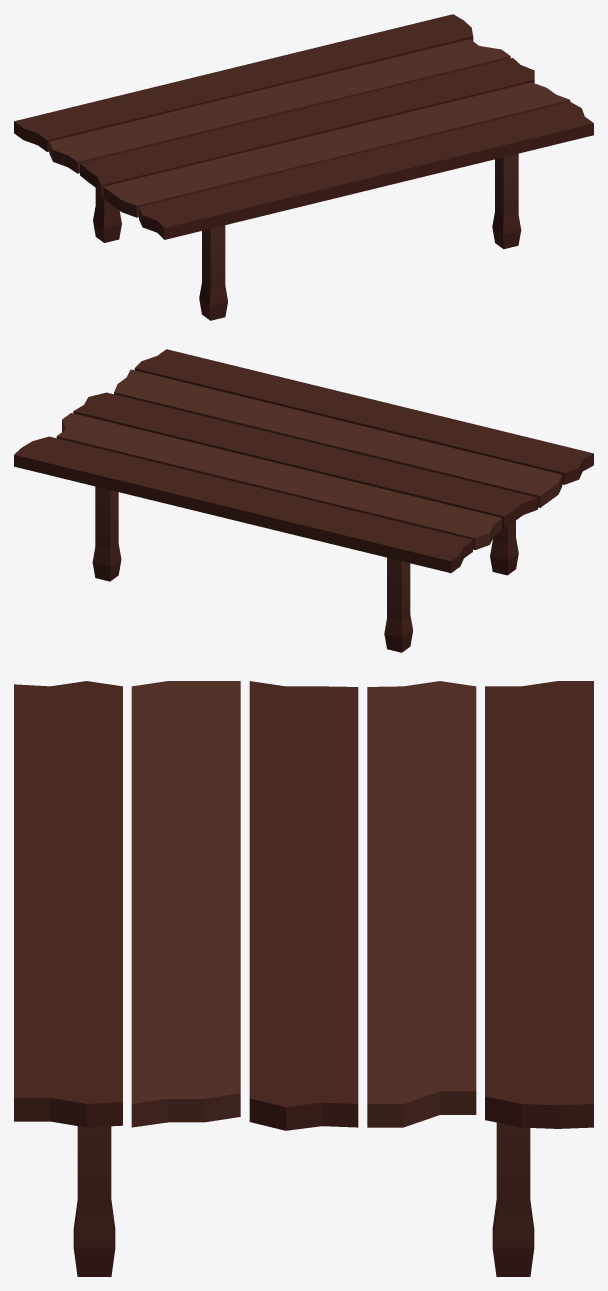
File: farmpack2023table.fbx
The picture shows the model from 3 angles, top to bottom: view 1: azimuth 30°, elevation 25°; view 2: azimuth 150°, elevation 25°; view 3: azimuth 270°, elevation 25°; orthographic projection. The views are drawn at different scales.
Visible parts, largest first — view 1: Plane.018; view 2: Plane.018; view 3: Plane.018.
Boxes of the visible parts, <box> form: Plane.018: <box>14,14,593,320</box>; Plane.018: <box>14,349,593,652</box>; Plane.018: <box>14,681,593,1276</box>.
Size of the model in its own units: 2.69 by 4.68 by 1.21.
